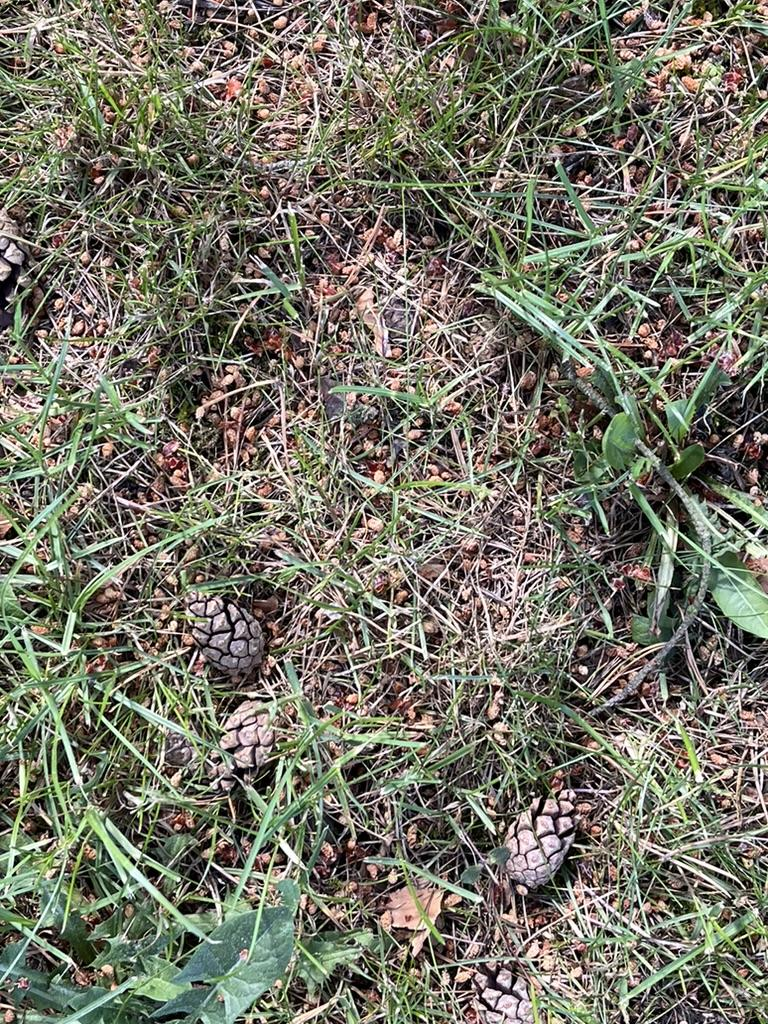pine: (206, 683, 311, 808), (498, 780, 588, 906), (174, 573, 276, 673), (438, 950, 568, 1024), (0, 195, 48, 333)
